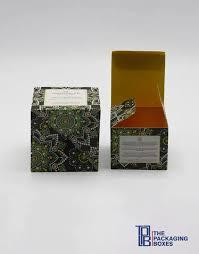cube: (32, 87, 102, 174)
